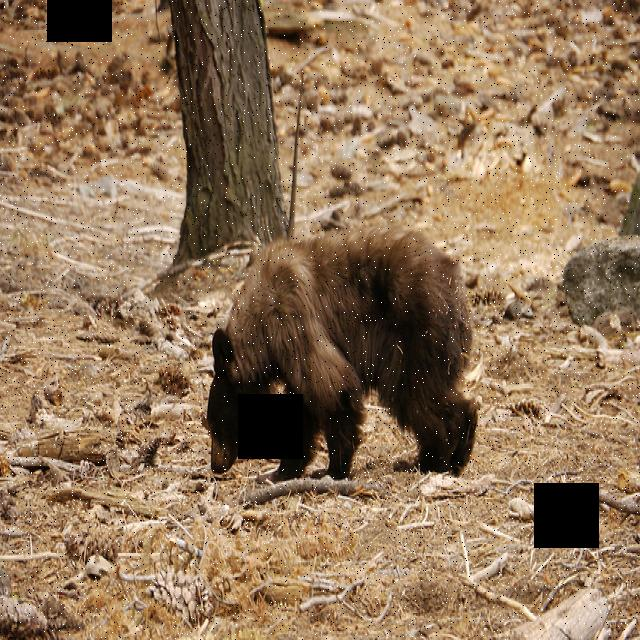Bear: (192, 221, 481, 479)
